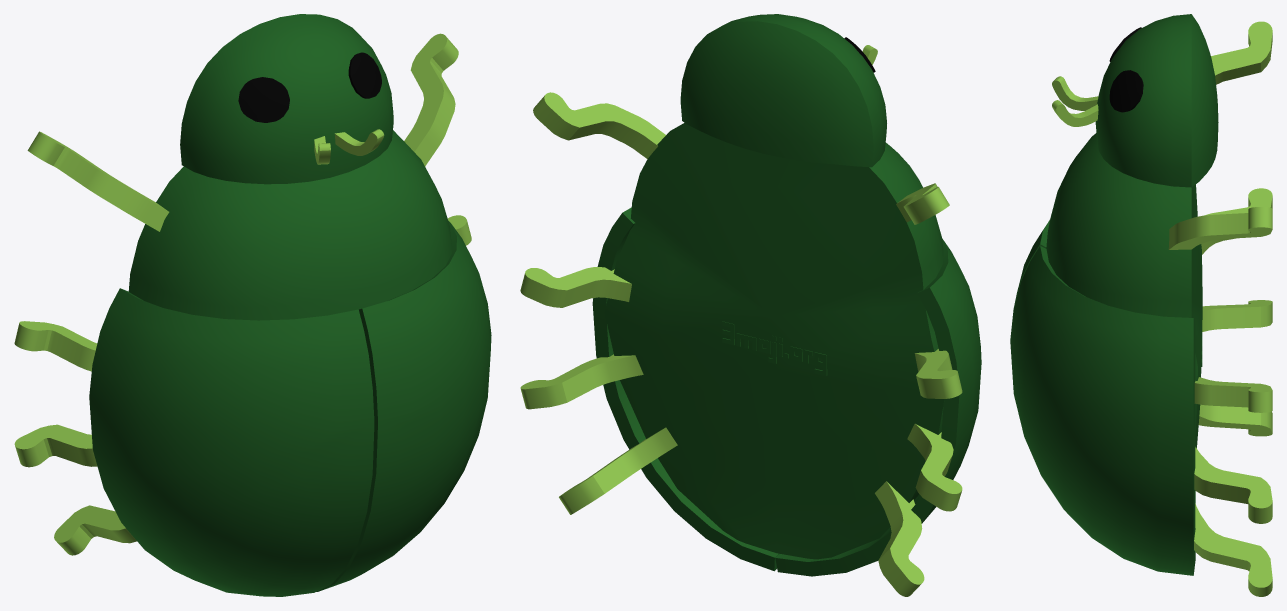
Rendered from beetle.glb.
3 views of the same model, side by side, from view 1: azimuth 30°, elevation 25°; view 2: azimuth 150°, elevation 25°; view 3: azimuth 270°, elevation 25° (orthographic). The views are drawn at different scales.
Visible parts, largest first — view 1: Cube.138; view 2: Cube.138; view 3: Cube.138.
Part boxes in pixels (box(x1,y1,x2,y2)): Cube.138: box(14, 14, 491, 596); Cube.138: box(520, 14, 981, 596); Cube.138: box(1010, 14, 1272, 596).
Size of the model in its own units: 1.85 by 2.2 by 0.9838.
1 material, 1 textured.
